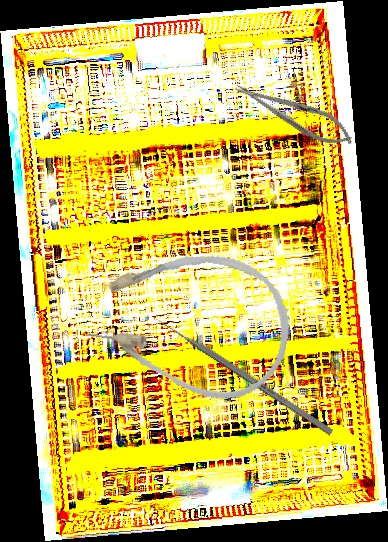Cannula: (78, 233, 301, 411)
Needle Holder: (229, 72, 360, 155)
Pusher: (150, 312, 334, 436)
